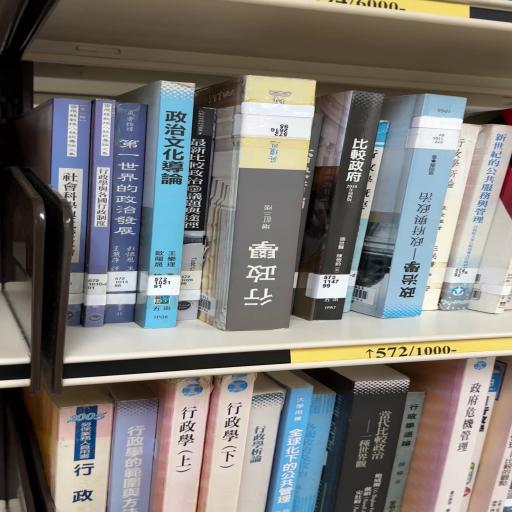reverse: (196, 76, 316, 332), (353, 95, 467, 319)
